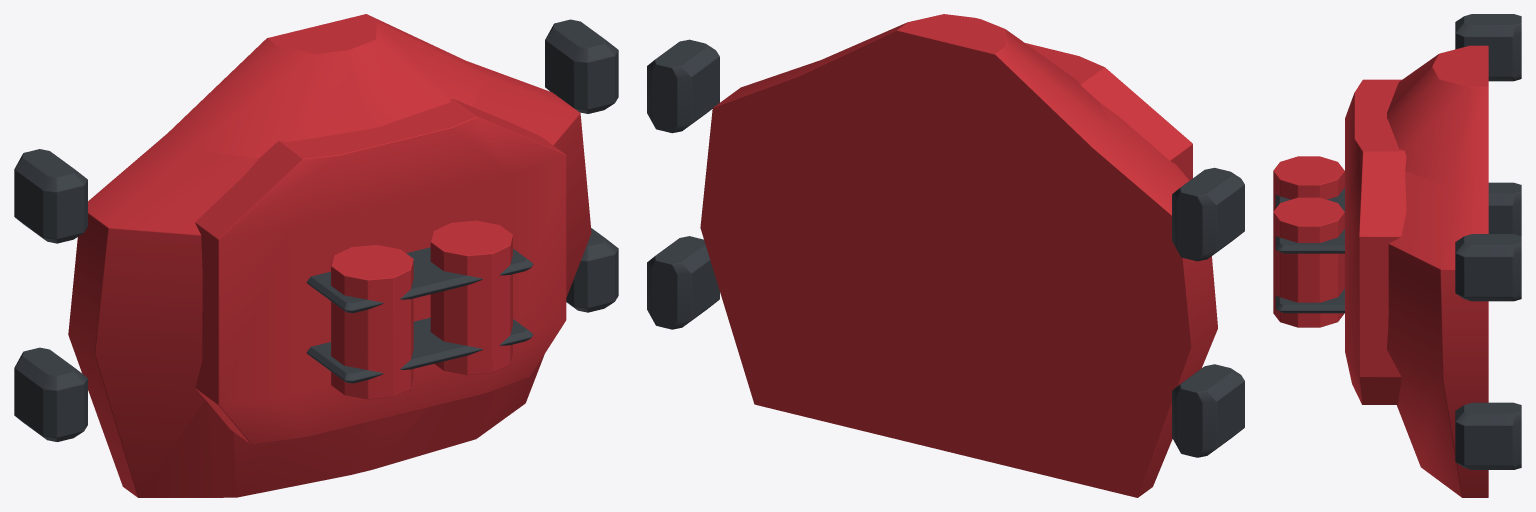
Rendered from ShoulderBack_Set08_Goliath.fbx.
3 renders of one model, left to right at view 1: azimuth 30°, elevation 25°; view 2: azimuth 150°, elevation 25°; view 3: azimuth 270°, elevation 25°, orthographic. The views are drawn at different scales.
Visible parts, largest first — view 1: ShoulderBack_Set08_Goliath; view 2: ShoulderBack_Set08_Goliath; view 3: ShoulderBack_Set08_Goliath.
Part boxes in pixels (x1,y1,x2,y2): ShoulderBack_Set08_Goliath: [14, 14, 618, 497]; ShoulderBack_Set08_Goliath: [647, 14, 1244, 497]; ShoulderBack_Set08_Goliath: [1273, 14, 1521, 497].
Bounding box in the file's own units: 0.51 × 0.35 × 0.2243.
